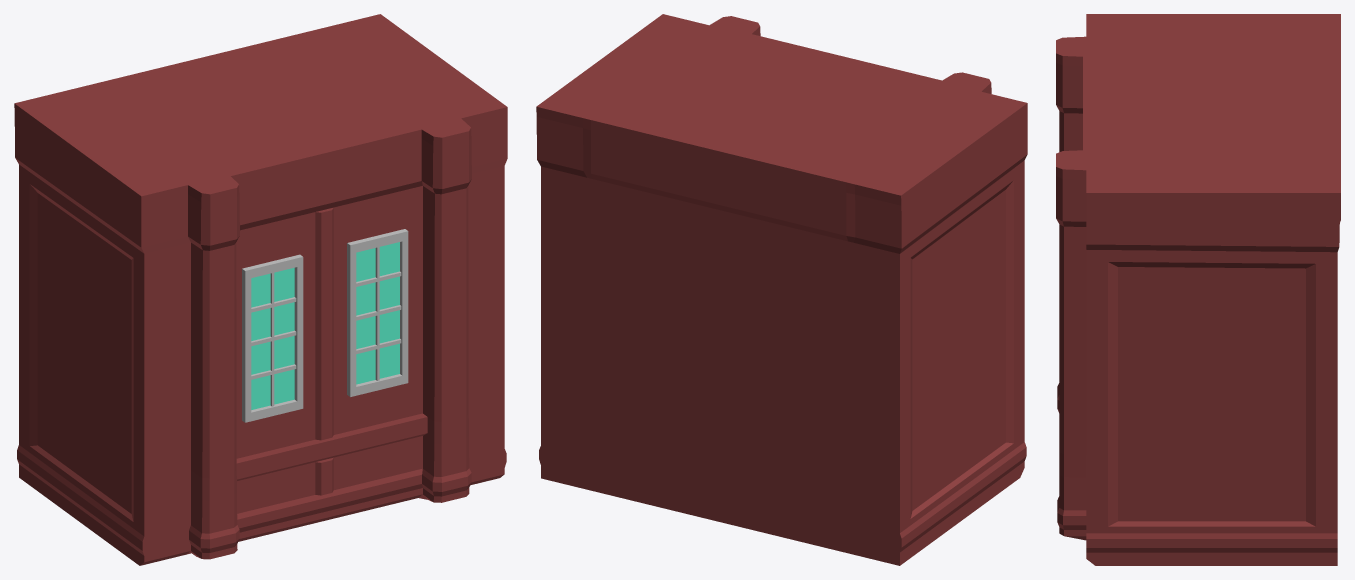
Rendered from O_V_FacadeExrude1_up.fbx.
3 views of the same model, side by side, from view 1: azimuth 30°, elevation 25°; view 2: azimuth 150°, elevation 25°; view 3: azimuth 270°, elevation 25° (orthographic).
Visible parts, largest first — view 1: O_V_FacadeExrude1_up; view 2: O_V_FacadeExrude1_up; view 3: O_V_FacadeExrude1_up.
Part boxes in pixels (x1,y1,x2,y2): O_V_FacadeExrude1_up: (14, 14, 507, 565); O_V_FacadeExrude1_up: (536, 14, 1027, 565); O_V_FacadeExrude1_up: (1056, 14, 1340, 565).
Bounding box in the file's own units: 6.67 × 6.5 × 4.48.
